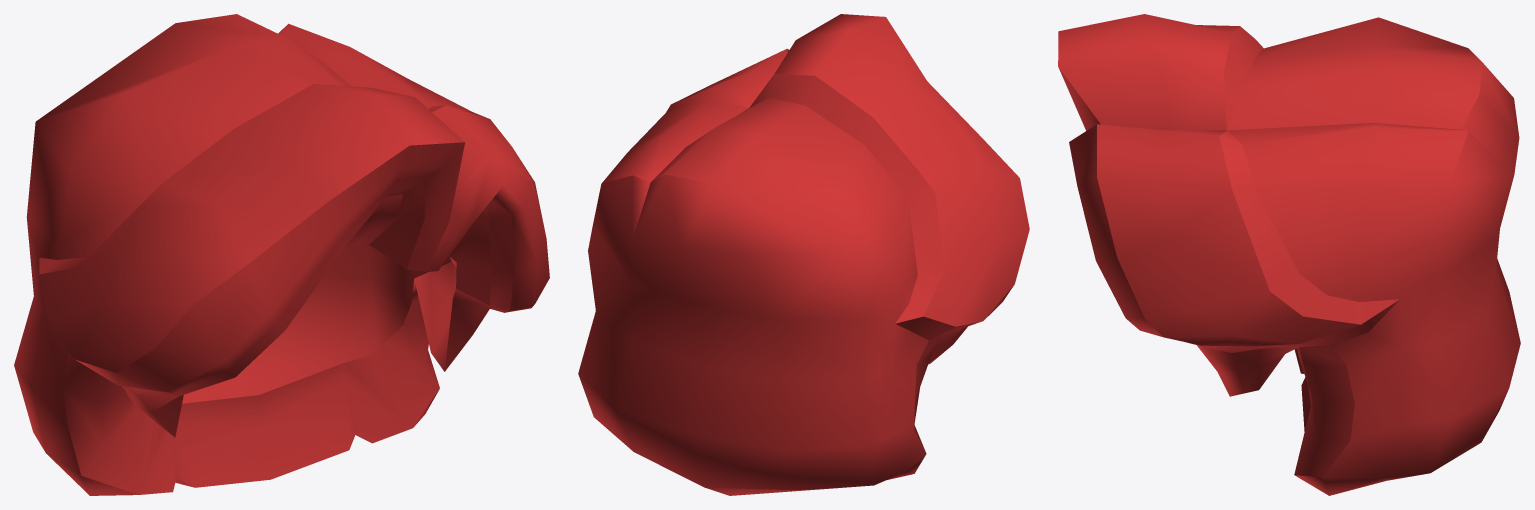
The model's file is Hair_Red_5.fbx.
The picture shows the model from 3 angles, left to right: view 1: azimuth 30°, elevation 25°; view 2: azimuth 150°, elevation 25°; view 3: azimuth 270°, elevation 25°; orthographic projection. The views are drawn at different scales.
Parts seen in each view (by area): view 1: Hair_Red_5; view 2: Hair_Red_5; view 3: Hair_Red_5.
Part boxes in pixels (x1,y1,x2,y2): Hair_Red_5: [14, 14, 549, 495]; Hair_Red_5: [578, 14, 1029, 495]; Hair_Red_5: [1058, 14, 1520, 495].
Bounding box in the file's own units: 67.62 × 68.28 × 65.32.
